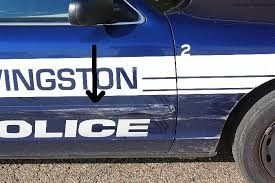Scratch: (51, 104, 178, 121), (210, 97, 237, 121)
